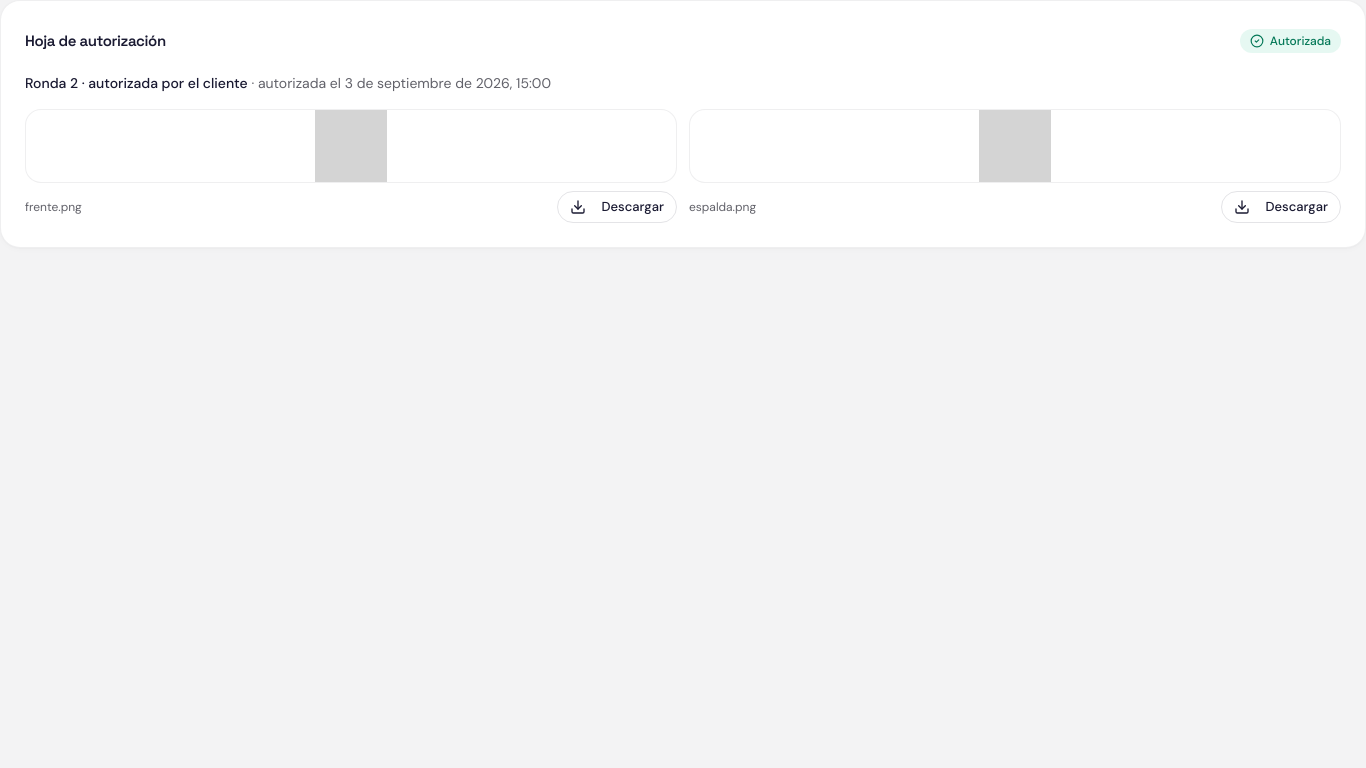
it: AuthorizationSheet › autorizada con varias imágenes: grilla con zoom y descarga
Expected: the text "Autorizada" is shown, [1240,29,1341,53]
Expected: the text "Ronda 2 · autorizada por el cliente" is shown, [25,74,248,92]
Step 1. Click the button named "Ampliar frente.png" → click(351, 146), box [25,109,677,183]
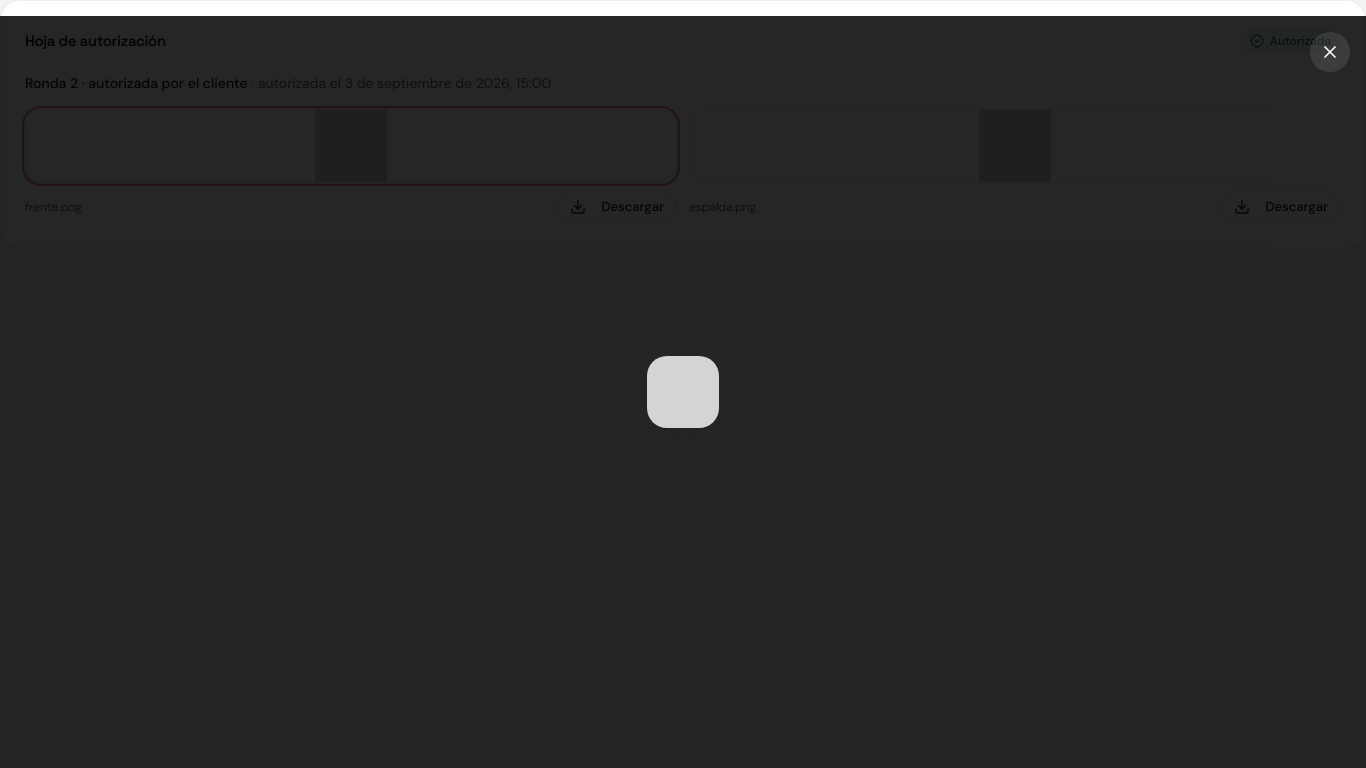
Expected: the button named "Cerrar imagen" is shown, [1310,32,1350,72]
